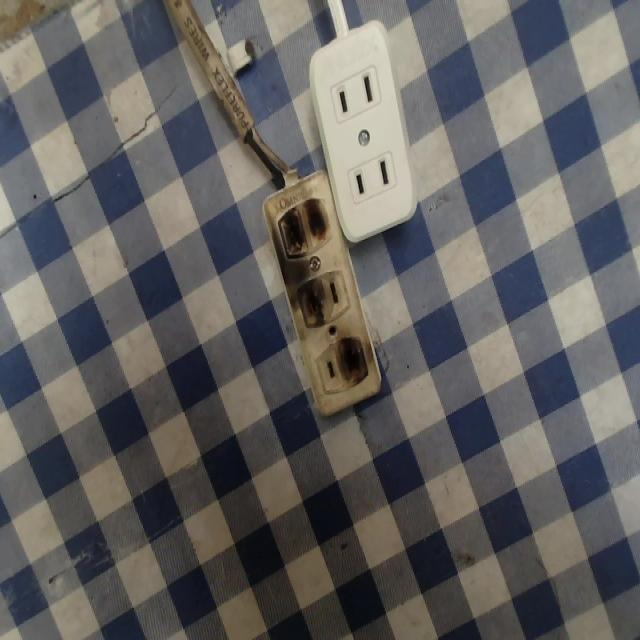-: (268, 193, 335, 256), (332, 331, 380, 388), (283, 276, 328, 329)
